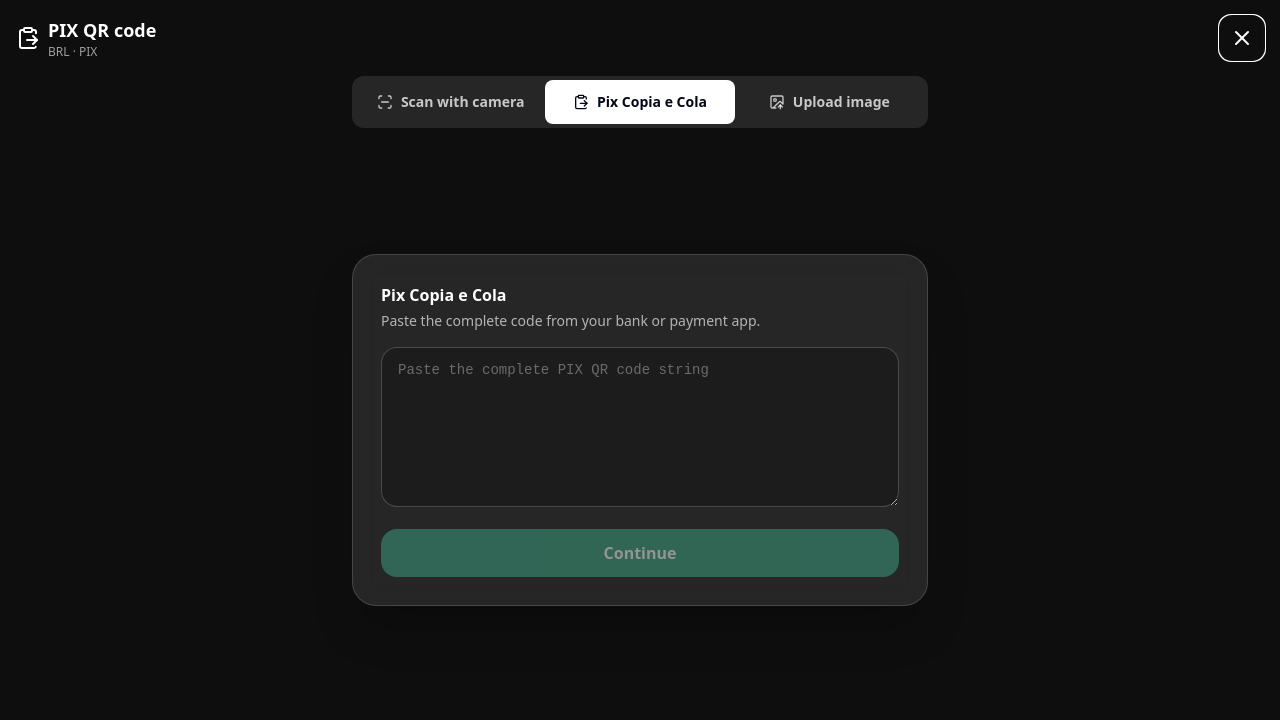
QrScannerFullScreen › shows a recoverable error when pasted-code processing rejects
Type "000201-pix-payload" into the text box labelled "Pix Copia e Cola" at (640, 427), box [381,347,899,507]
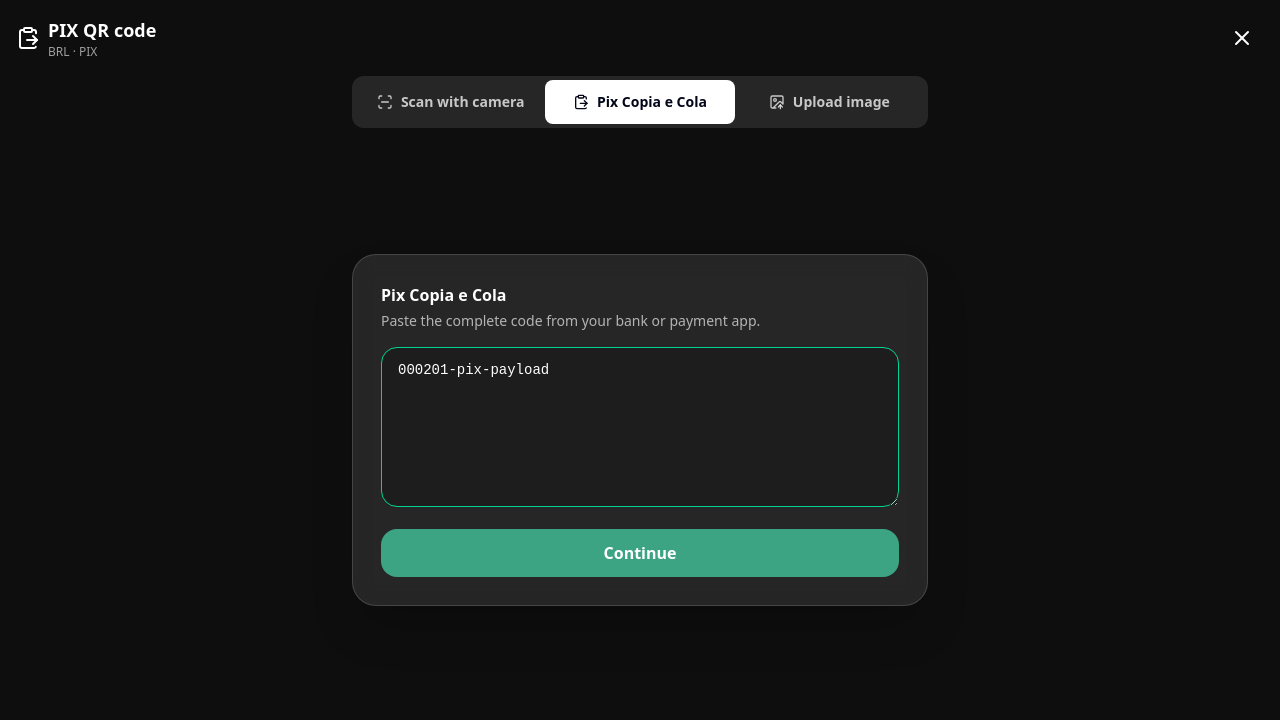
Click the button "Continue" at (640, 553), box [381,529,899,577]
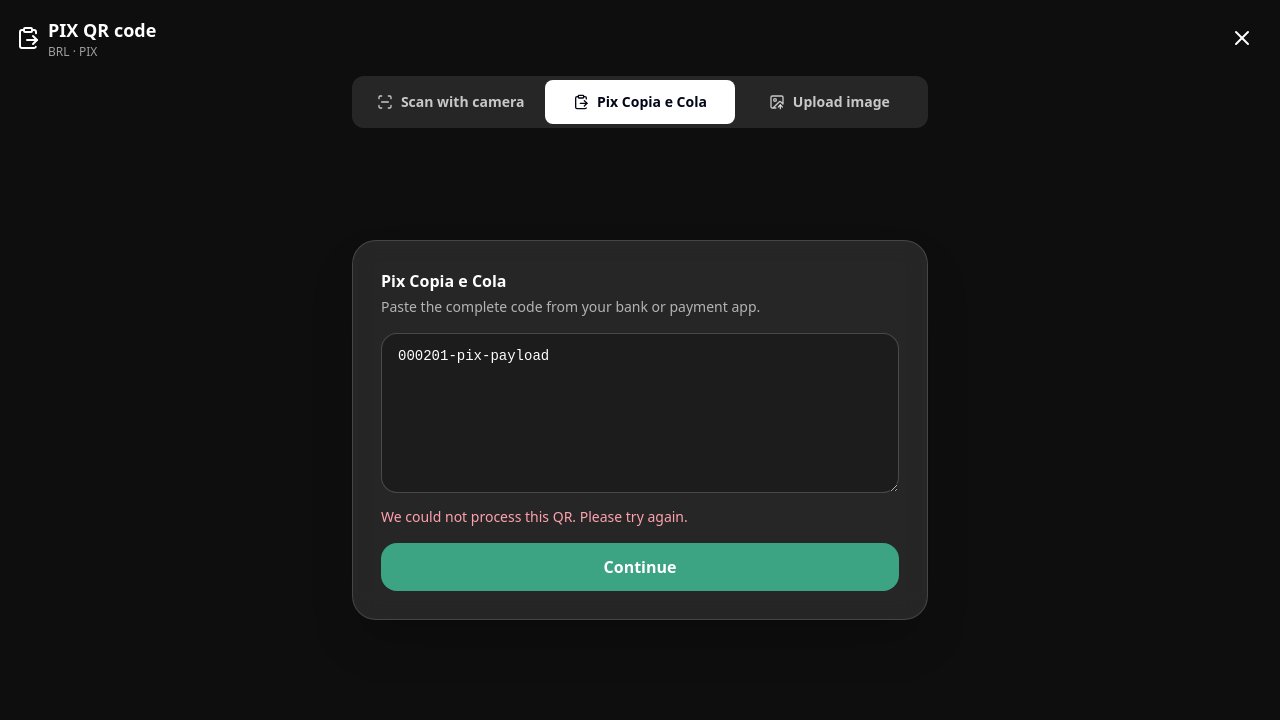
Now the button "Continue" is enabled, box [381,543,899,591]
Now the message reads "We could not process this QR. Please try again.", box [381,507,688,526]
